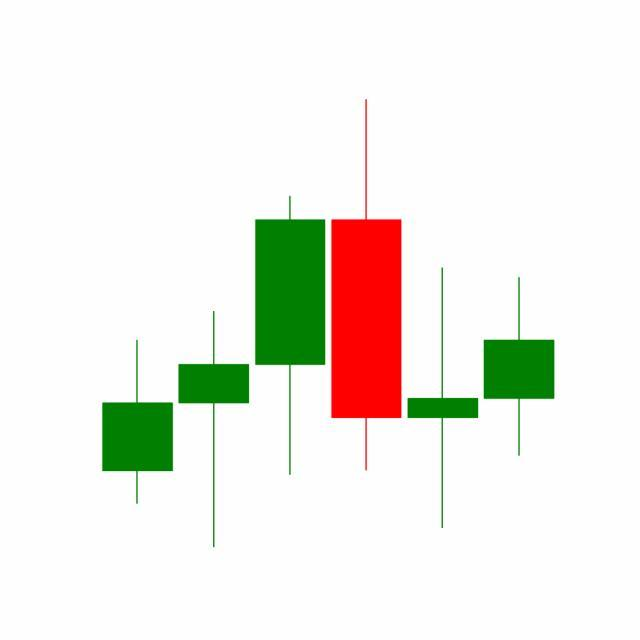Spinning Top: (404, 265, 482, 532)
